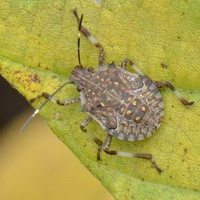insect: (20, 9, 193, 172), (78, 31, 99, 71)
